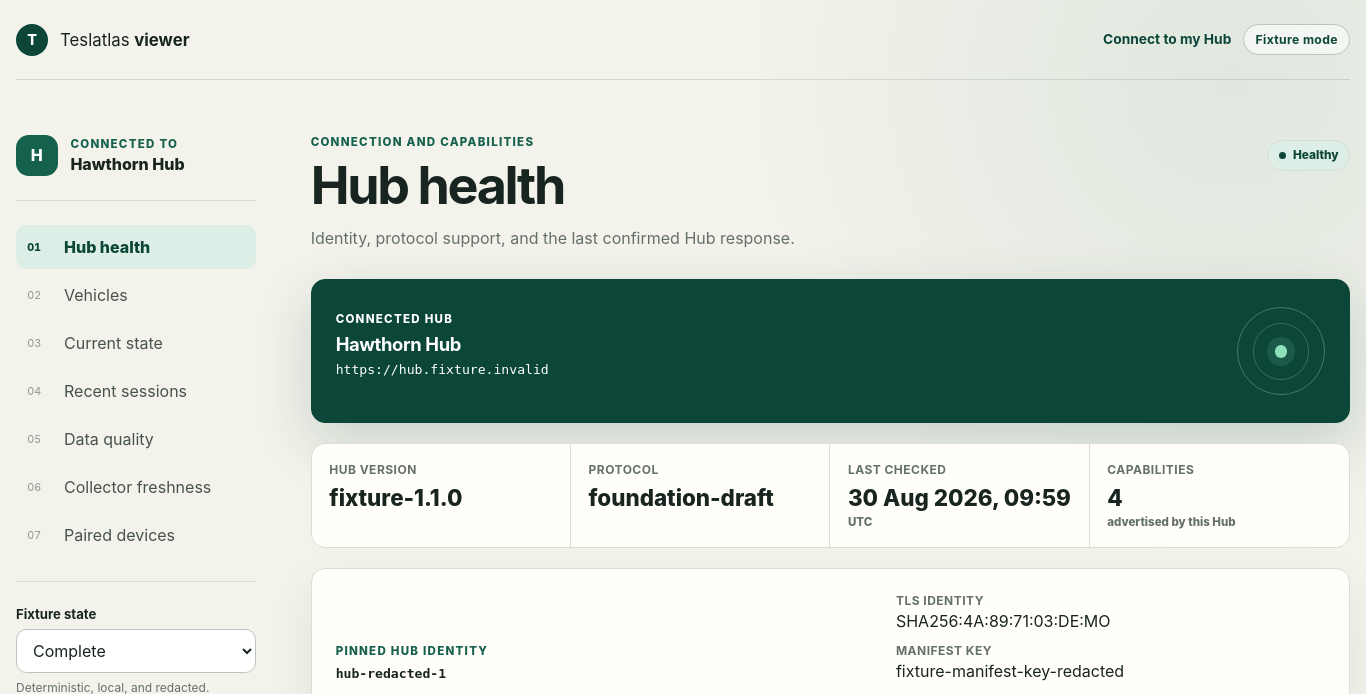
reference views › labels a timestamped current projection as observed when freshness is unknown
This screenshot has width=1366, height=694.
Click the button "03 Current state" at (136, 343), box [16,321,256,365]
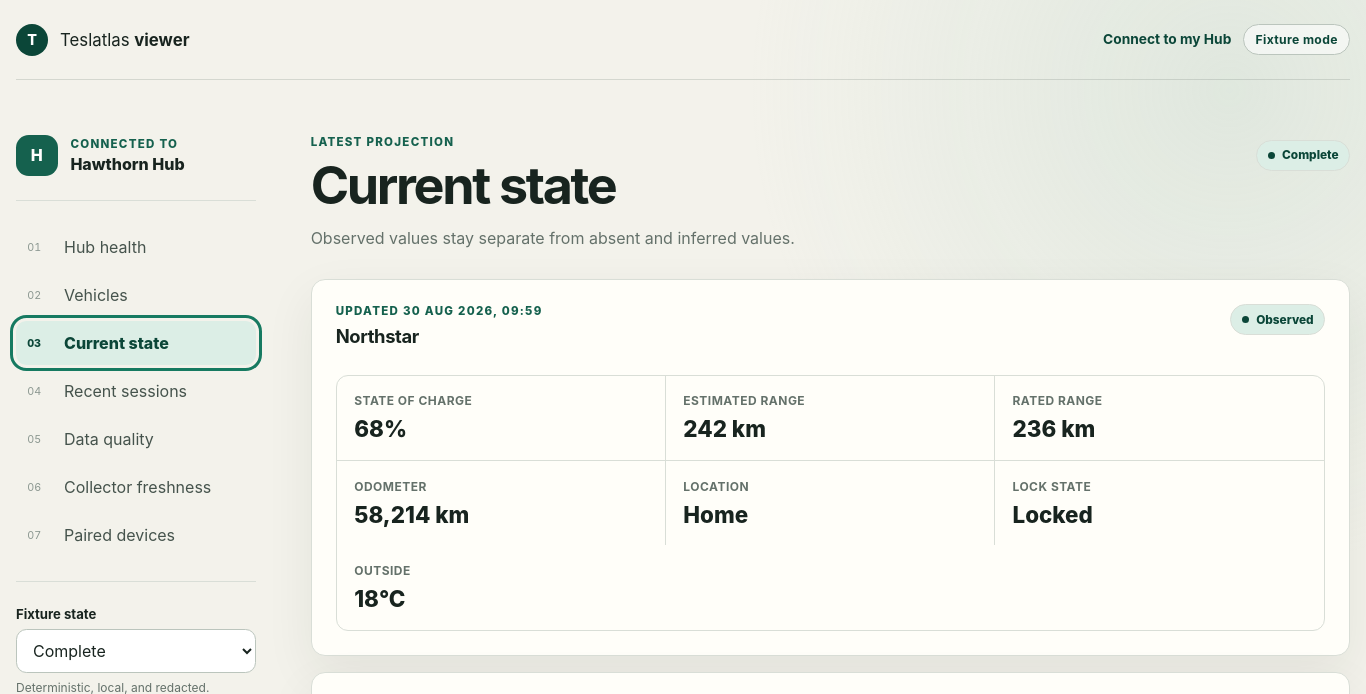
Expected: the text "Observed" is shown, [1230,304,1325,335]
